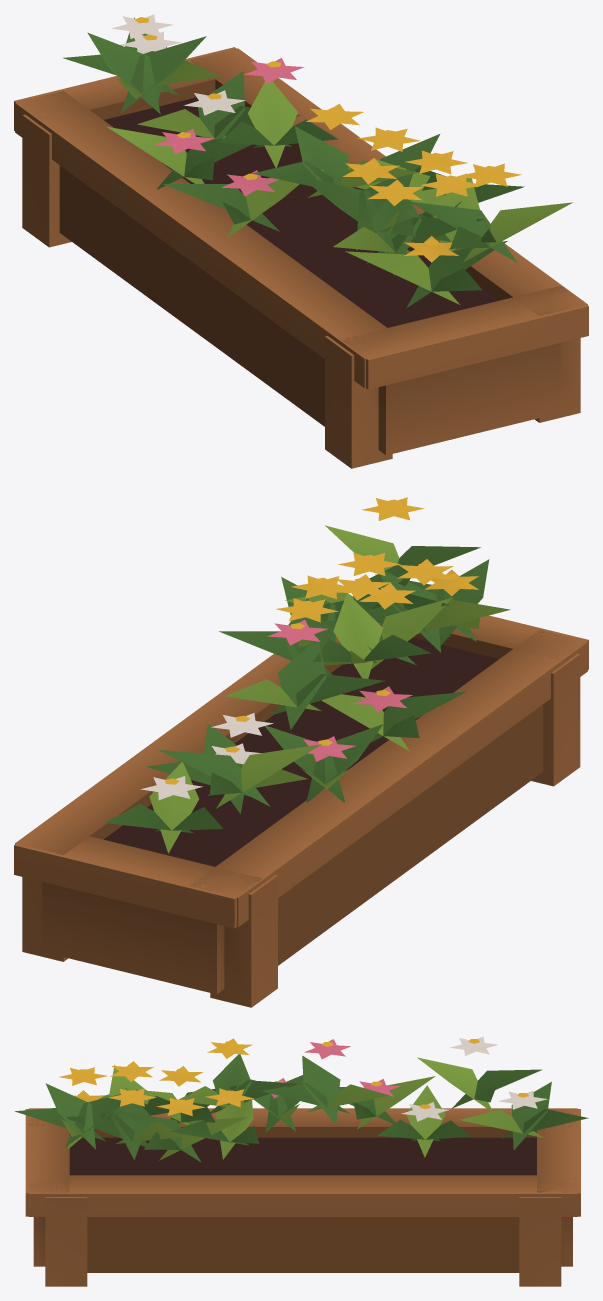
The model's file is prop.flower-box.lod1.glb.
The picture shows the model from 3 angles, top to bottom: view 1: azimuth 30°, elevation 25°; view 2: azimuth 150°, elevation 25°; view 3: azimuth 270°, elevation 25°; orthographic projection. The views are drawn at different scales.
Size of the model in its own units: 0.4931 by 0.4606 by 1.24.
